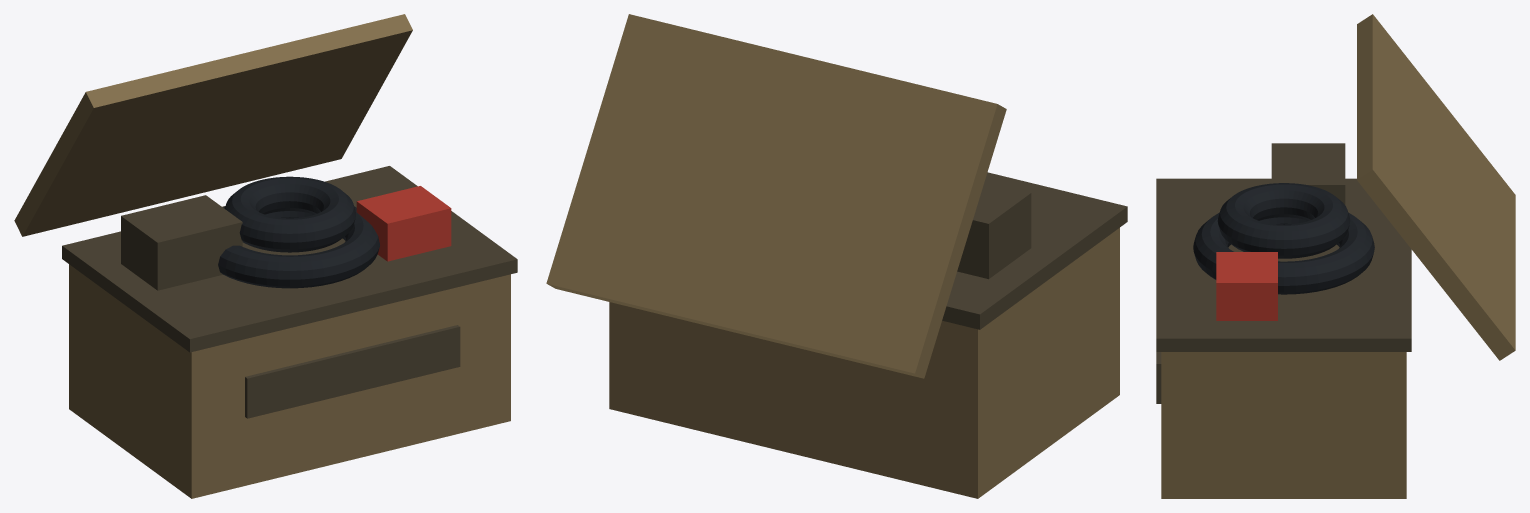
Rendered from gear-crate.glb.
The picture shows the model from 3 angles, left to right: view 1: azimuth 30°, elevation 25°; view 2: azimuth 150°, elevation 25°; view 3: azimuth 270°, elevation 25°; orthographic projection. The views are drawn at different scales.
Parts seen in each view (by area): view 1: crate, lid, rim, stencil, ebox1, coil.001, coil, ebox2; view 2: lid, crate, rim, ebox1; view 3: crate, lid, rim, coil.001, coil, ebox2, ebox1.
Part boxes in pixels (x1,y1,x2,y2): crate: (69, 264, 510, 498); lid: (14, 14, 412, 236); rim: (62, 166, 517, 352); stencil: (245, 325, 460, 418); ebox1: (121, 195, 242, 290); coil.001: (225, 176, 356, 252); coil: (218, 206, 379, 288); ebox2: (356, 186, 451, 261); lid: (546, 14, 1006, 378); crate: (609, 228, 1119, 498); rim: (942, 172, 1127, 329); ebox1: (957, 181, 1031, 279); crate: (1161, 352, 1406, 498); lid: (1357, 14, 1515, 360); rim: (1156, 178, 1411, 351); coil.001: (1217, 183, 1350, 258); coil: (1193, 212, 1374, 294); ebox2: (1216, 252, 1277, 320); ebox1: (1271, 143, 1345, 204).
Bounding box in the file's own units: 1.54 × 1.48 × 1.46.
